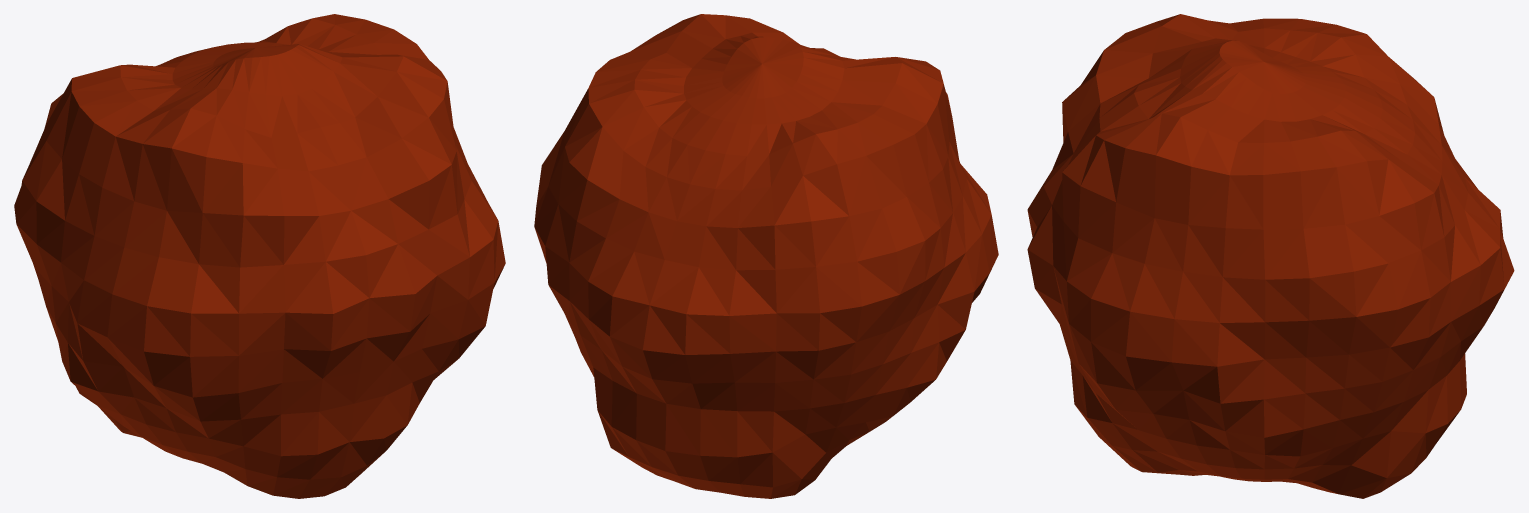
Rendered from rock.dae.
3 views of the same model, side by side, from view 1: azimuth 30°, elevation 25°; view 2: azimuth 150°, elevation 25°; view 3: azimuth 270°, elevation 25° (orthographic). The views are drawn at different scales.
Visible parts, largest first — view 1: Sphere; view 2: Sphere; view 3: Sphere.
Part boxes in pixels (x1=…): Sphere: x1=14, y1=14, x2=505, y2=498; Sphere: x1=534, y1=14, x2=998, y2=498; Sphere: x1=1027, y1=14, x2=1514, y2=498.
Bounding box in the file's own units: 2.17 × 2.29 × 2.16.
